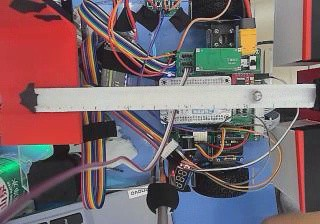ironball: (252, 90, 261, 100)
